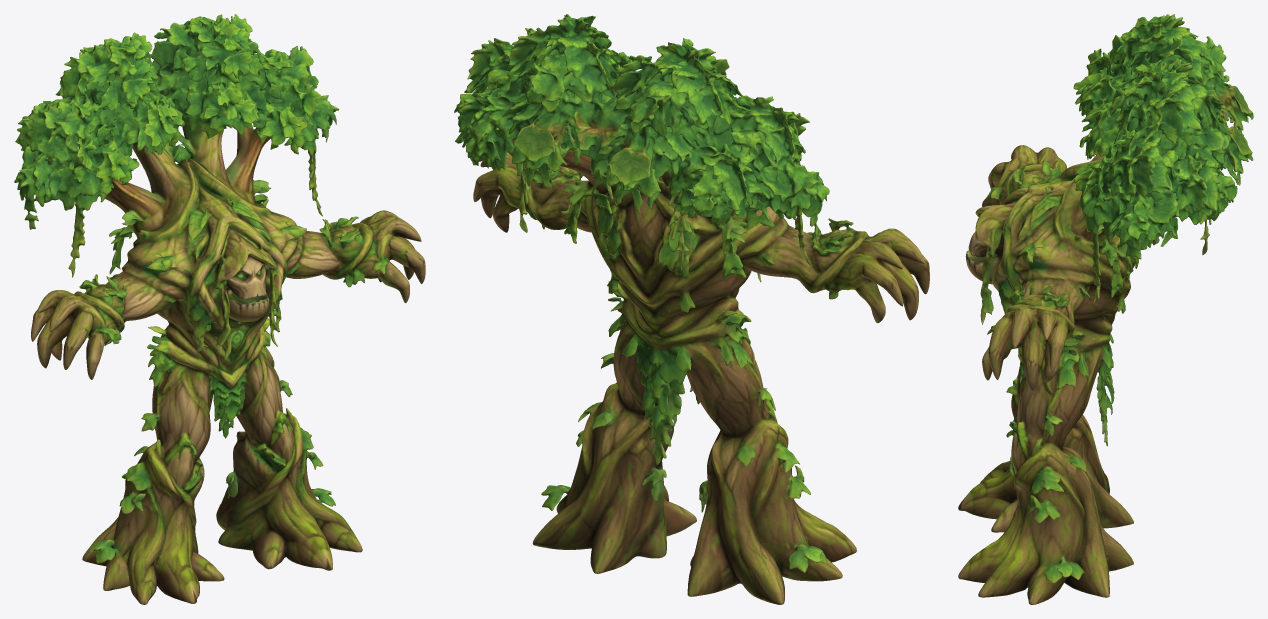
File: Treant.glb
3 renders of one model, left to right at view 1: azimuth 30°, elevation 25°; view 2: azimuth 150°, elevation 25°; view 3: azimuth 270°, elevation 25°, orthographic. The views are drawn at different scales.
Size of the model in its own units: 1.53 by 1.89 by 1.01.
1 material, 1 textured.
